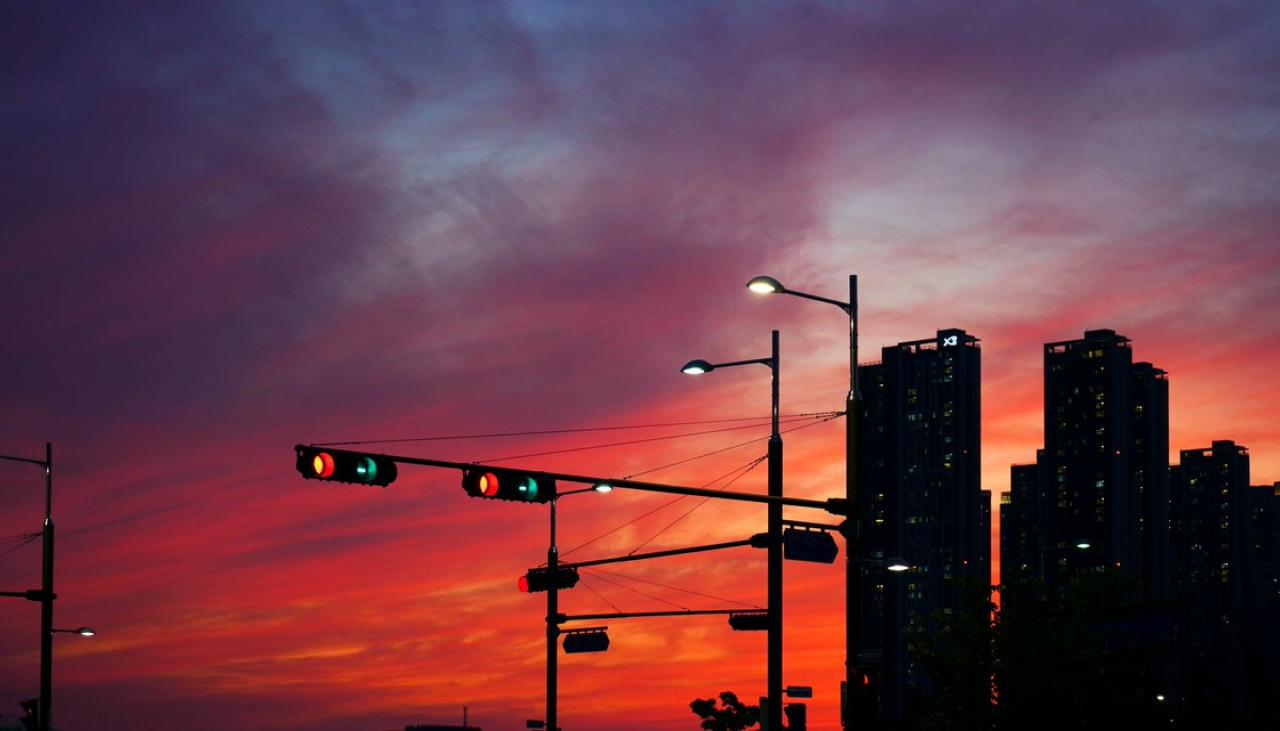Left turn: (351, 451, 377, 484), (514, 468, 539, 500)
Red Light: (302, 448, 336, 479), (471, 466, 501, 500)
